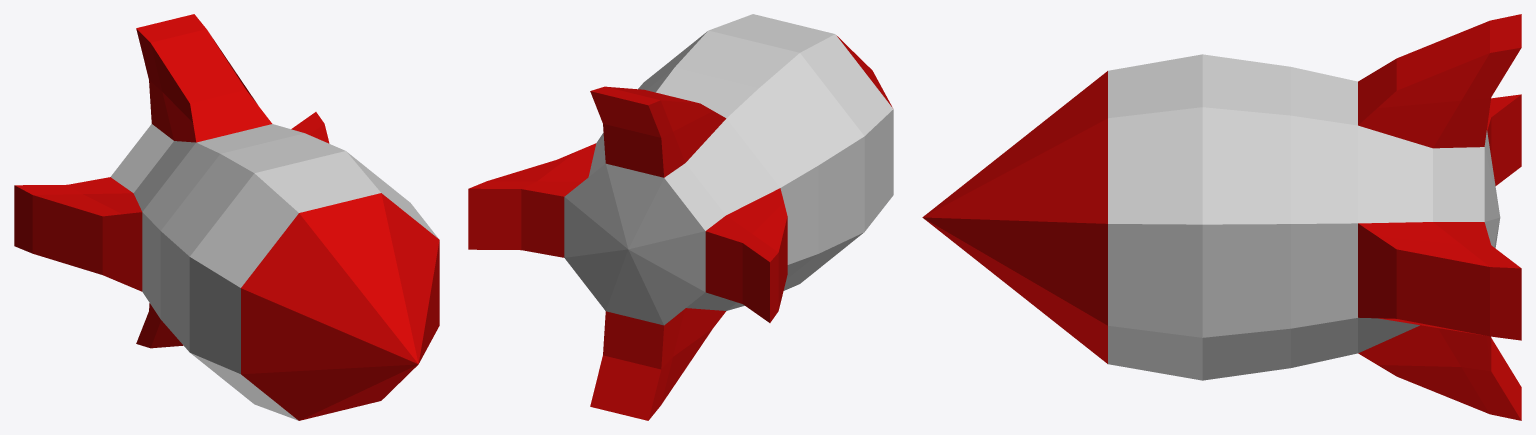
The model's file is missile.fbx.
The picture shows the model from 3 angles, left to right: view 1: azimuth 30°, elevation 25°; view 2: azimuth 150°, elevation 25°; view 3: azimuth 270°, elevation 25°; orthographic projection. The views are drawn at different scales.
Parts seen in each view (by area): view 1: missile; view 2: missile; view 3: missile.
Boxes of the visible parts, left/top/right/bottom form: missile: left=14, top=14, right=439, bottom=420; missile: left=468, top=14, right=893, bottom=420; missile: left=922, top=14, right=1521, bottom=420.
Bounding box in the file's own units: 1.07 × 1.07 × 1.56.
